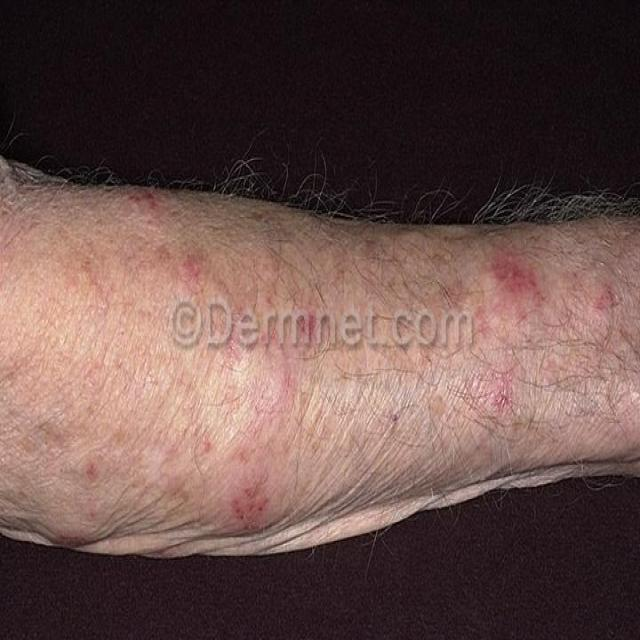Eczema: (82, 184, 612, 530)
